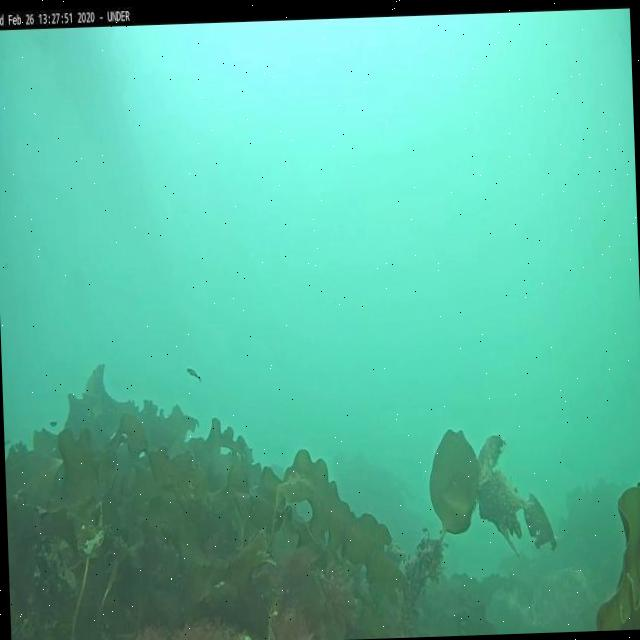fish: (186, 367, 201, 382)
